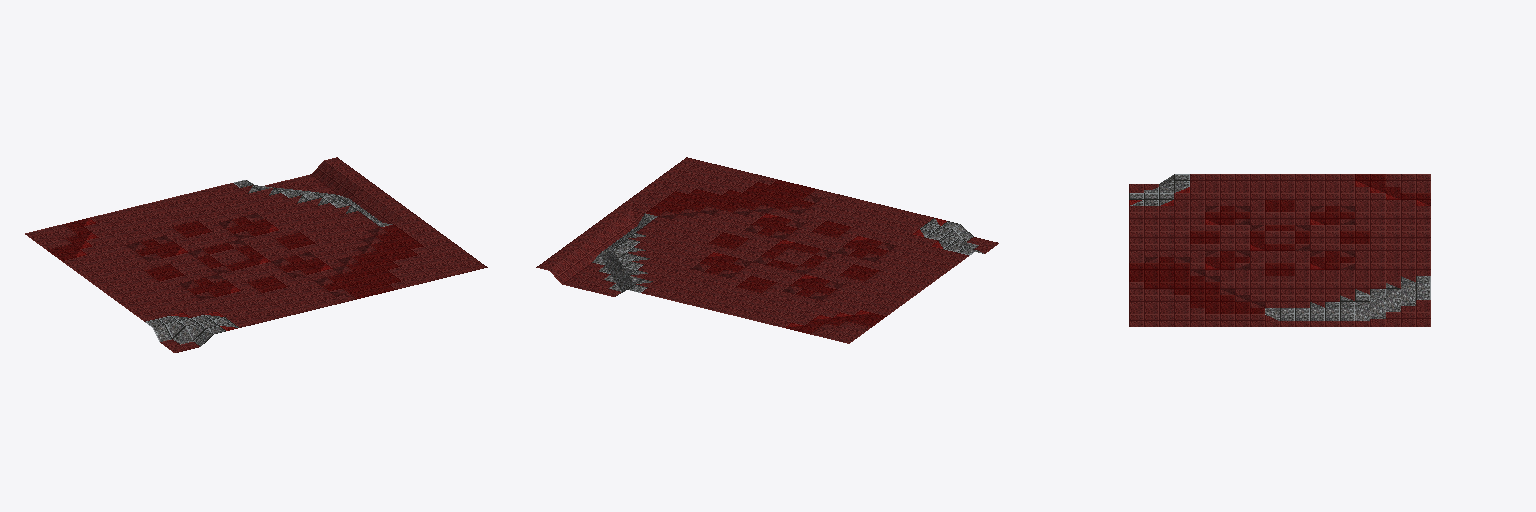
The picture shows the model from 3 angles: view 1: azimuth 30°, elevation 25°; view 2: azimuth 150°, elevation 25°; view 3: azimuth 270°, elevation 25°; orthographic projection.
Parts seen in each view (by area): view 1: FloorSide_8; view 2: FloorSide_8; view 3: FloorSide_8.
Part boxes in pixels (bbox=[...]): FloorSide_8: bbox=[25, 157, 487, 352]; FloorSide_8: bbox=[536, 157, 998, 343]; FloorSide_8: bbox=[1129, 174, 1430, 326].
Bounding box in the file's own units: 24 × 0.7901 × 20.
13 materials, 13 textured.